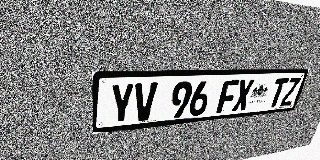6: (188, 81, 212, 116)
9: (169, 81, 193, 118)
F: (216, 80, 240, 113)
T: (267, 78, 289, 108)
V: (133, 83, 158, 122)
X: (232, 79, 255, 112)
Y: (109, 83, 134, 125)
Z: (279, 77, 301, 106)
